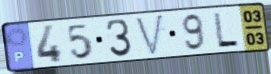3: (104, 18, 134, 59)
4: (35, 23, 66, 65)
5: (67, 22, 96, 61)
9: (180, 12, 207, 52)
L: (211, 11, 241, 48)
V: (133, 13, 166, 58)
